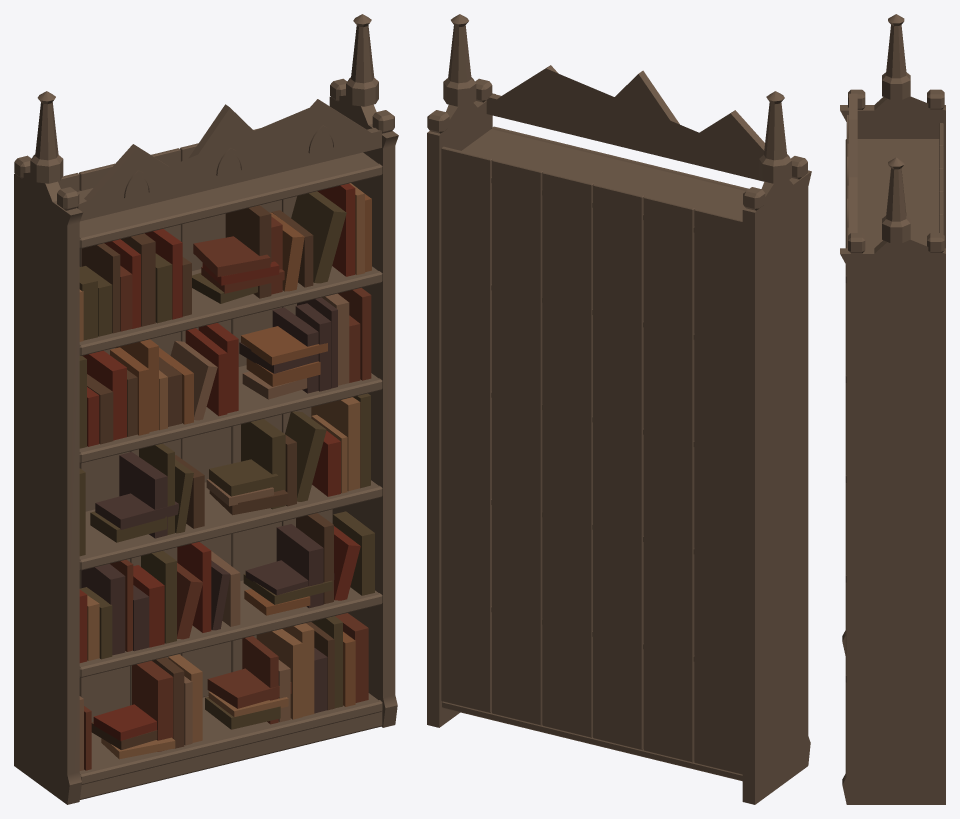
The model's file is bookshelf.glb.
3 views of the same model, side by side, from view 1: azimuth 30°, elevation 25°; view 2: azimuth 150°, elevation 25°; view 3: azimuth 270°, elevation 25° (orthographic). The views are drawn at different scales.
Parts seen in each view (by area): view 1: bookshelf, bookshelf_books; view 2: bookshelf; view 3: bookshelf.
Boxes of the visible parts, x1,y1,x2,y2 form: bookshelf: [14, 14, 398, 804]; bookshelf_books: [79, 183, 374, 770]; bookshelf: [427, 14, 811, 804]; bookshelf: [840, 14, 945, 804].
Bounding box in the file's own units: 1.67 × 3.23 × 0.48.
